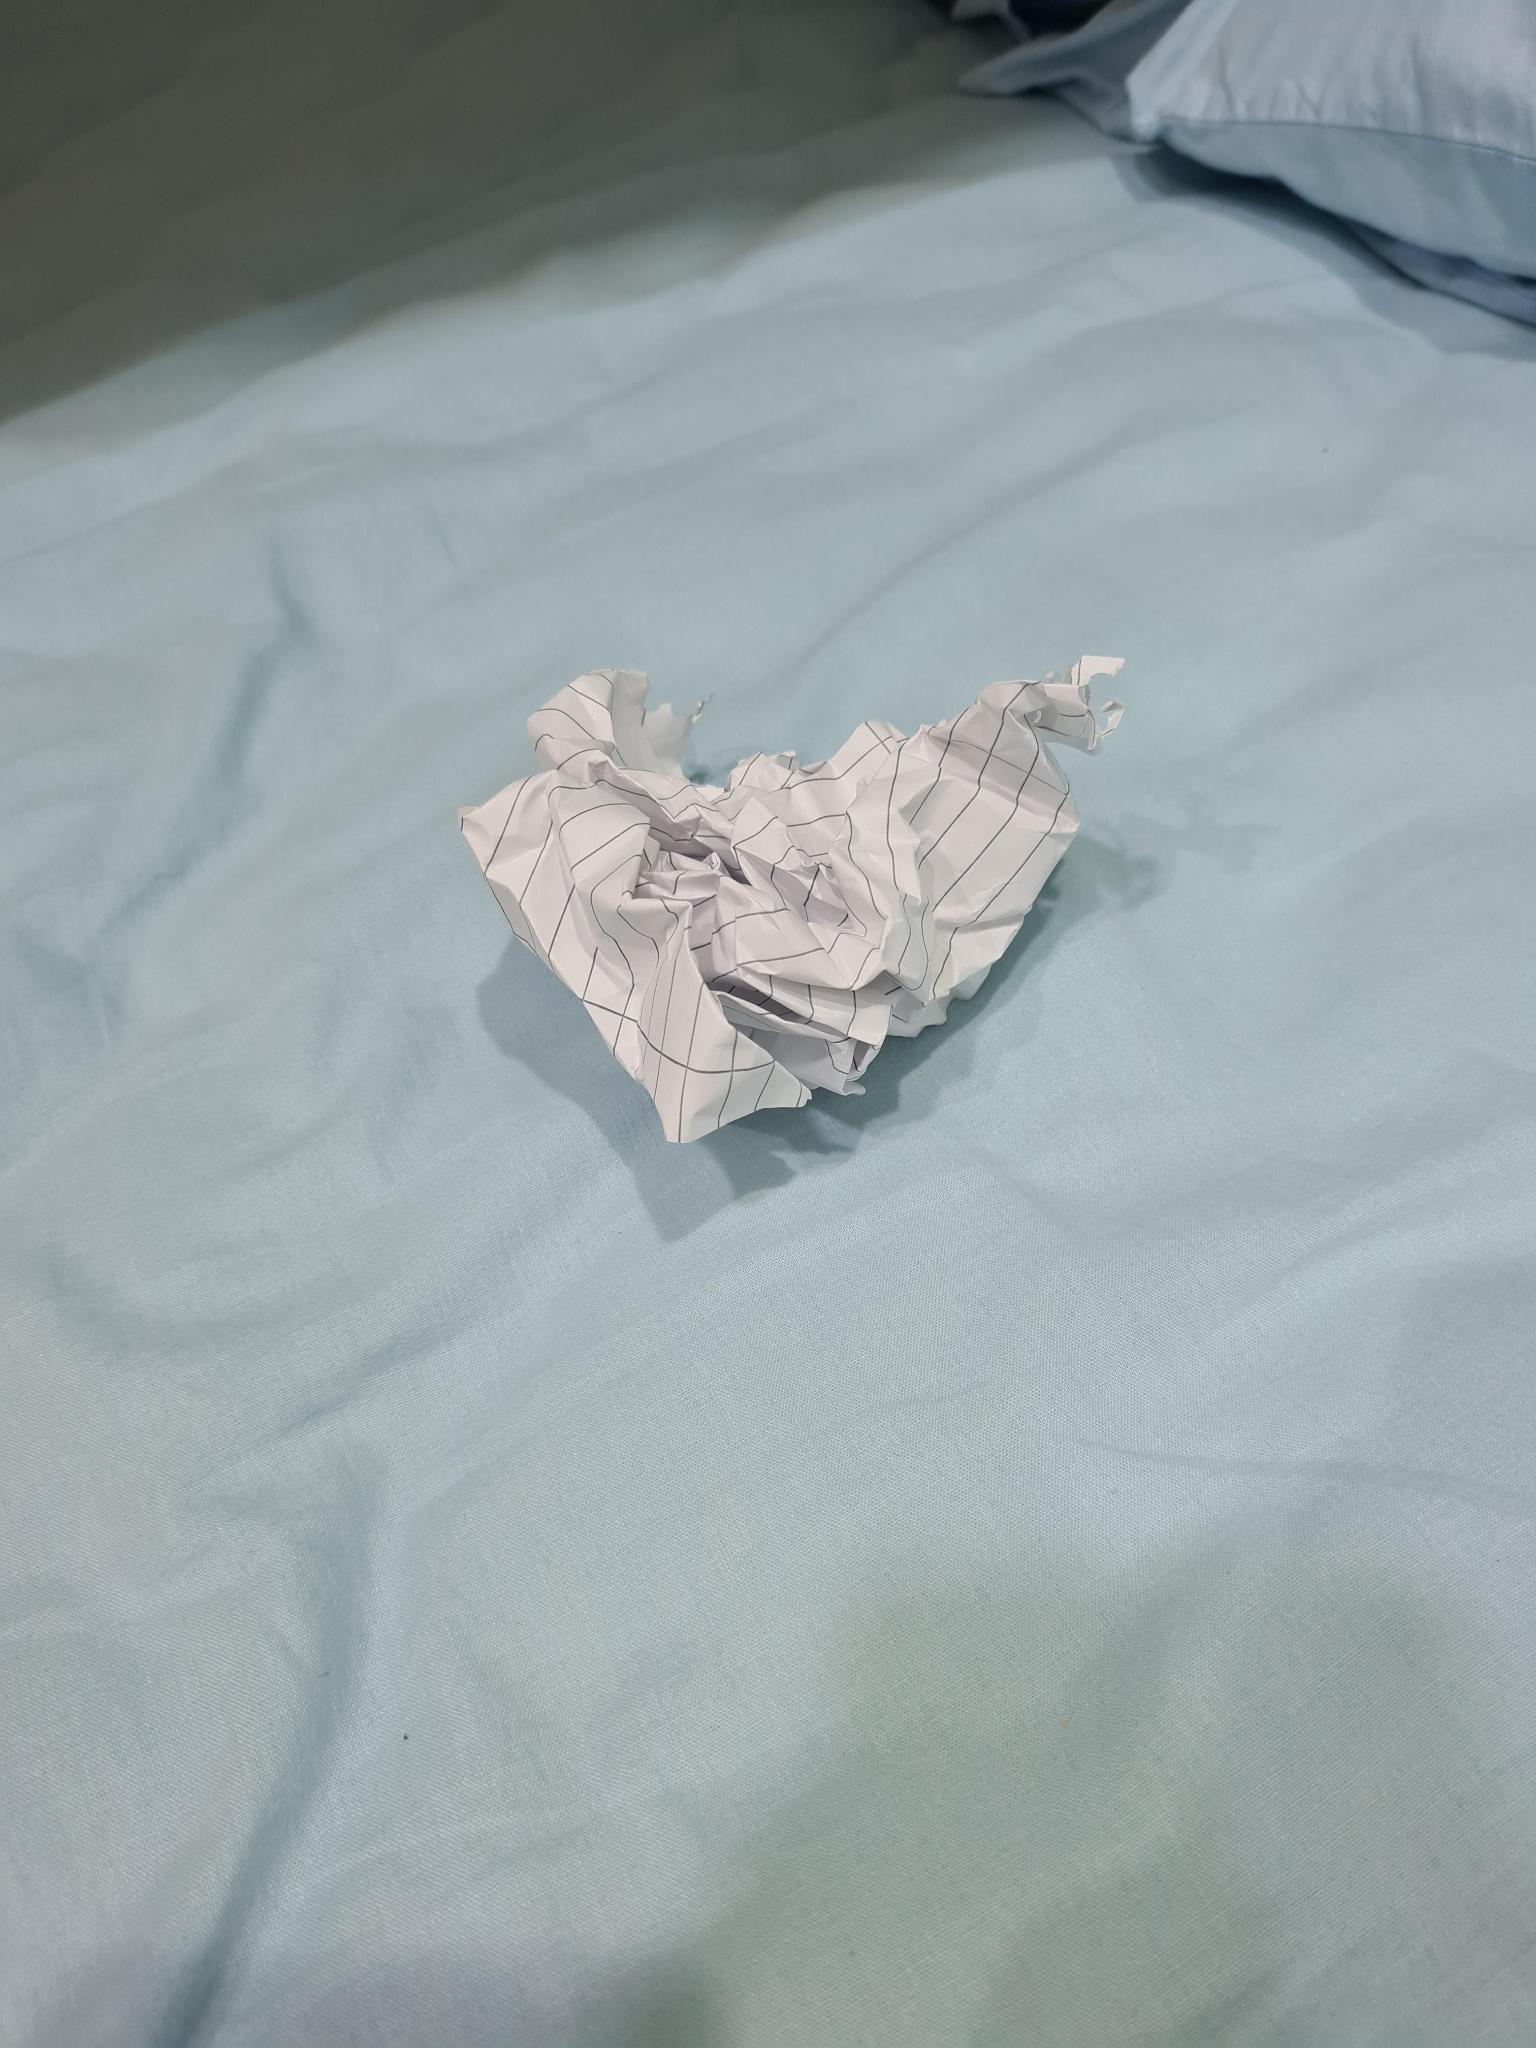paper: (462, 657, 1120, 1140), (951, 0, 1535, 323)
